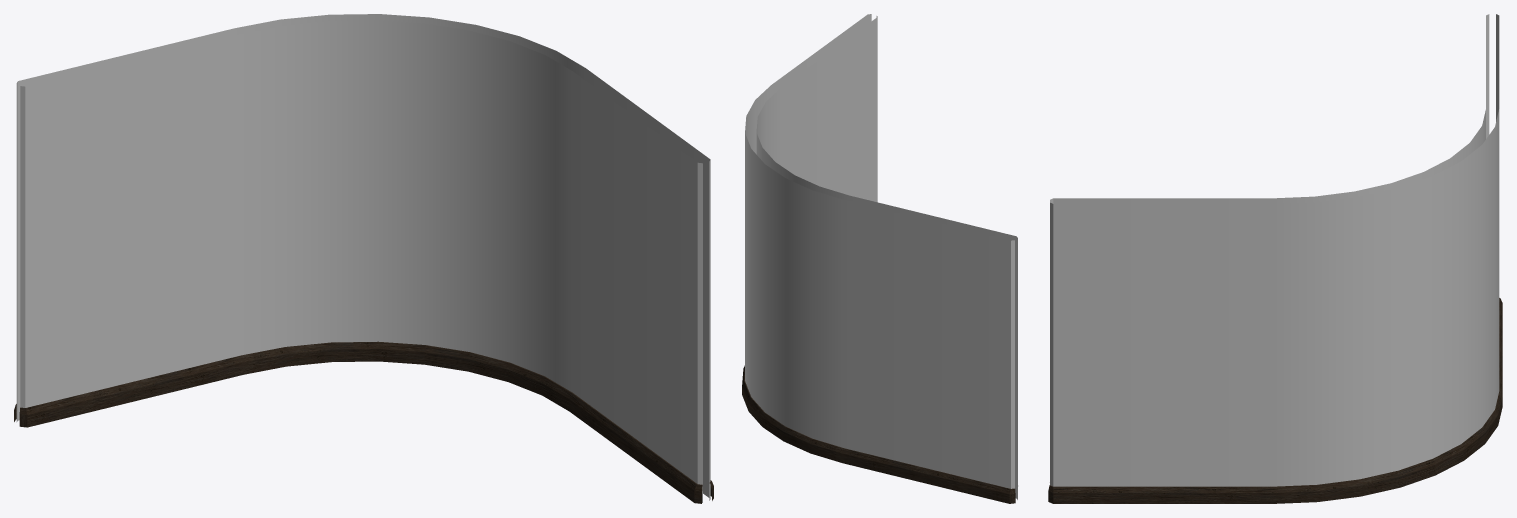
The model's file is wall_1_rounded_corner_1.fbx.
The picture shows the model from 3 angles, left to right: view 1: azimuth 30°, elevation 25°; view 2: azimuth 150°, elevation 25°; view 3: azimuth 270°, elevation 25°; orthographic projection. The views are drawn at different scales.
Parts seen in each view (by area): view 1: wall_1_rounded_corner_1; view 2: wall_1_rounded_corner_1; view 3: wall_1_rounded_corner_1.
Part boxes in pixels (<box>): wall_1_rounded_corner_1: <box>14,14,713,503</box>; wall_1_rounded_corner_1: <box>742,14,1017,503</box>; wall_1_rounded_corner_1: <box>1048,14,1502,503</box>.
Bounding box in the file's own units: 4.14 × 3 × 4.14.
